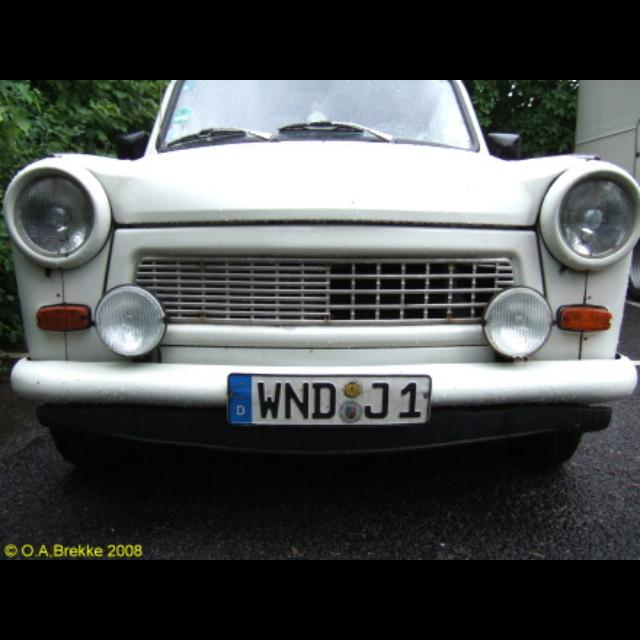d_license_plate: (227, 374, 427, 422)
